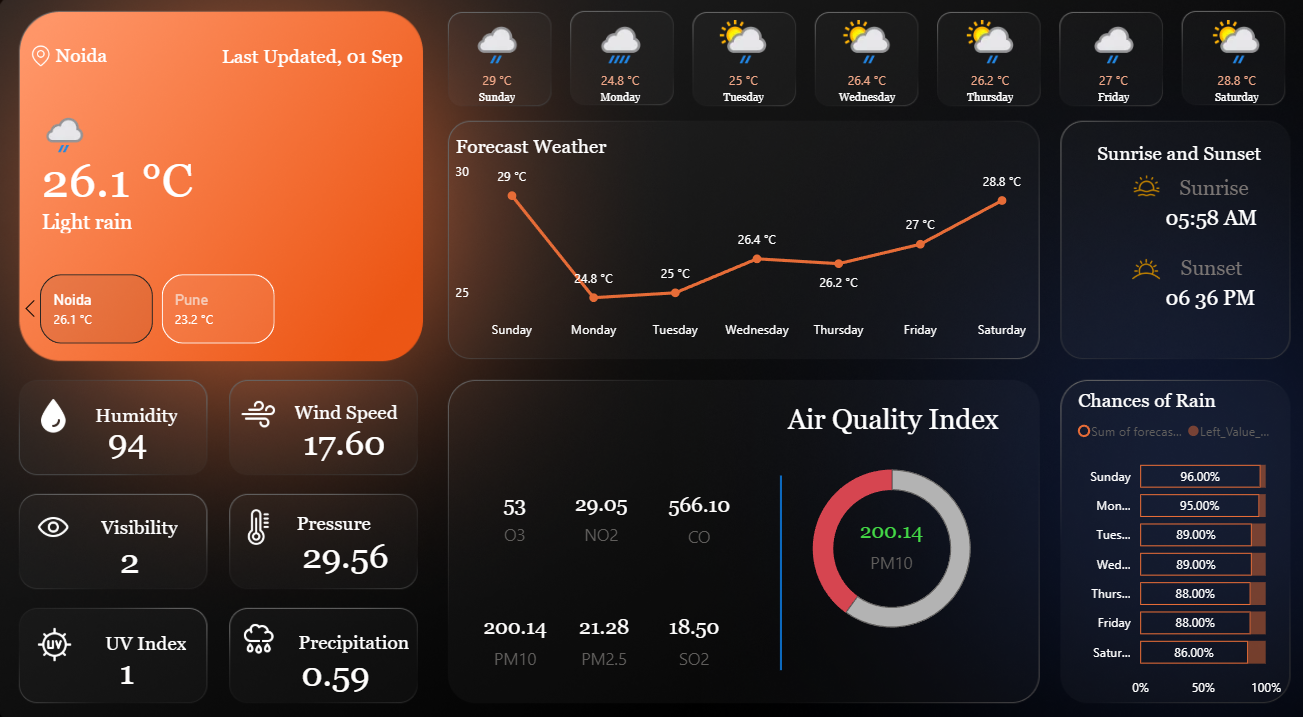

Layout of this report page (visuals, bound fields, positions):
{"tool":"powerbi","page":{"name":"Page 1","canvas":[1280,720],"ordinal":0},"visuals":[{"type":"advancedSlicerVisual","fields":{"Values":["Location.location.name"]},"box":[21,270.9,395.1,77.4],"z":0},{"type":"shape","box":[46.7,145.5,171.5,79.6],"z":1000},{"type":"shape","box":[46.6,196.2,324.2,58.2],"z":2000},{"type":"shape","box":[207.2,41.2,188,49.4],"z":3000},{"type":"shape","box":[60.4,43.9,102.9,42.5],"z":4000},{"type":"image","box":[22,50.8,49.4,30.2],"z":5000},{"type":"cardVisual","fields":{"Data":["Min(Current.current.condition.icon)"]},"box":[0,94.8,111.4,79.8],"z":6000},{"type":"image","box":[36.4,497.9,44.3,44.3],"z":7000},{"type":"image","box":[233.9,388.8,44.3,45.8],"z":8000},{"type":"image","box":[36.4,390.4,44.3,44.3],"z":9000},{"type":"image","box":[233.9,497.9,44.3,44.3],"z":10000},{"type":"image","box":[233.9,605.4,45,45],"z":11000},{"type":"image","box":[37.9,611.7,44.3,44.3],"z":12000},{"type":"shape","box":[77.5,387.3,101.2,50.6],"z":13000},{"type":"shape","box":[85.4,607,101.2,50.6],"z":14000},{"type":"shape","box":[289.3,605.4,112.2,50.6],"z":15000},{"type":"shape","box":[276.6,491.6,88.5,50.6],"z":16000},{"type":"shape","box":[93.3,494.7,85.4,50.6],"z":17000},{"type":"shape","box":[289.3,384.1,101.2,50.6],"z":18000},{"type":"card","fields":{"Values":["Sum(Current.current.humidity)"]},"box":[85.4,399.9,88.5,74.3],"z":19000},{"type":"card","fields":{"Values":["Sum(Current.current.wind_kph)"]},"box":[286,405.7,106.4,64.8],"z":20000},{"type":"card","fields":{"Values":["Sum(Current.current.vis_km)"]},"box":[96.4,520,71.1,64.8],"z":21000},{"type":"card","fields":{"Values":["Sum(Current.current.pressure_in)"]},"box":[289.3,509,101.2,75.9],"z":22000},{"type":"card","fields":{"Values":["Sum(Current.current.uv)"]},"box":[90.1,633.8,77.5,52.2],"z":23000},{"type":"card","fields":{"Values":["Sum(Current.current.precip_mm)"]},"box":[289.3,633.8,82.2,55.3],"z":24000},{"type":"advancedSlicerVisual","fields":{"Values":["Forecast_Day.Day_Name"]},"box":[429.9,17.4,828.3,124.9],"z":25000},{"type":"lineChart","title":"Forecast Weather","fields":{"Y":["Sum(Forecast_Day.forecast.forecastday.day.avgtemp_c)"],"Category":["Forecast_Day.Day_Name"]},"box":[441,142.3,569,205.5],"z":26000},{"type":"shape","box":[1052.7,134.4,183.4,50.6],"z":27000},{"type":"shape","box":[1131.7,196,102.7,52.2],"z":28000},{"type":"shape","box":[1146,241.8,90.1,56.9],"z":29000},{"type":"shape","box":[1131.7,276.6,104.3,44.3],"z":30000},{"type":"shape","box":[1144.4,173.9,75.9,37.9],"z":31000},{"type":"image","box":[1081.2,173.9,64.8,34.8],"z":32000},{"type":"image","box":[1084.3,248.2,56.9,45.8],"z":33000},{"type":"hundredPercentStackedBarChart","title":"Chances of Rain","fields":{"Category":["Forecast_Day.Day_Name"],"Y":["Sum(Forecast_Day.forecast.forecastday.day.daily_chance_of_rain)","_Measures.Left_Value_Rain"]},"box":[1042.6,387.4,206.2,306],"z":34000},{"type":"shape","box":[734.9,390.8,267.7,49.9],"z":35000},{"type":"card","fields":{"Values":["Sum(Current.current.air_quality.co)"]},"box":[628.5,465.6,106.4,89.8],"z":36000},{"type":"card","fields":{"Values":["Sum(Current.current.air_quality.o3)"]},"box":[457.3,463.9,93.1,89.8],"z":37000},{"type":"card","fields":{"Values":["Sum(Current.current.air_quality.so2)"]},"box":[628.5,583.6,96.4,89.8],"z":38000},{"type":"card","fields":{"Values":["Sum(Current.current.air_quality.pm2_5)"]},"box":[538.7,583.6,101.4,89.8],"z":39000},{"type":"card","fields":{"Values":["Sum(Forecast_Day.forecast.forecastday.day.air_quality.pm10)"]},"box":[460.6,583.6,86.5,89.8],"z":40000},{"type":"card","fields":{"Values":["Sum(Current.current.air_quality.no2)"]},"box":[547.1,467.2,81.5,84.8],"z":41000},{"type":"shape","box":[734.9,470.6,51.5,187.9],"z":42000},{"type":"card","fields":{"Values":["Sum(Forecast_Day.forecast.forecastday.day.air_quality.pm10)"]},"box":[824.2,491.3,86.5,89.5],"z":43000},{"type":"donutChart","fields":{"Y":["_Measures.Left_Value_PM10","Sum(Forecast_Day.forecast.forecastday.day.air_quality.pm10)"]},"box":[767.5,439.6,200.6,204.1],"z":43001}]}

Visuals, with their boxes in screenshot pixels (x1, y1, x2, y2), scaled from the page's 1280x720 canvas onto the 1303x717 screenshot:
advancedSlicerVisual - Location.location.name: BBox(21, 270, 424, 347)
shape: BBox(48, 145, 222, 224)
shape: BBox(47, 195, 377, 253)
shape: BBox(211, 41, 402, 90)
shape: BBox(61, 44, 166, 86)
image: BBox(22, 51, 73, 81)
cardVisual - Min(Current.current.condition.icon): BBox(0, 94, 113, 174)
image: BBox(37, 496, 82, 540)
image: BBox(238, 387, 283, 433)
image: BBox(37, 389, 82, 433)
image: BBox(238, 496, 283, 540)
image: BBox(238, 603, 284, 648)
image: BBox(39, 609, 84, 653)
shape: BBox(79, 386, 182, 436)
shape: BBox(87, 604, 190, 655)
shape: BBox(294, 603, 409, 653)
shape: BBox(282, 490, 372, 540)
shape: BBox(95, 493, 182, 543)
shape: BBox(294, 382, 398, 433)
card - Sum(Current.current.humidity): BBox(87, 398, 177, 472)
card - Sum(Current.current.wind_kph): BBox(291, 404, 399, 469)
card - Sum(Current.current.vis_km): BBox(98, 518, 171, 582)
card - Sum(Current.current.pressure_in): BBox(294, 507, 398, 582)
card - Sum(Current.current.uv): BBox(92, 631, 171, 683)
card - Sum(Current.current.precip_mm): BBox(294, 631, 378, 686)
advancedSlicerVisual - Forecast_Day.Day_Name: BBox(438, 17, 1281, 142)
"Forecast Weather" lineChart: BBox(449, 142, 1028, 346)
shape: BBox(1072, 134, 1258, 184)
shape: BBox(1152, 195, 1257, 247)
shape: BBox(1167, 241, 1258, 297)
shape: BBox(1152, 275, 1258, 320)
shape: BBox(1165, 173, 1242, 211)
image: BBox(1101, 173, 1167, 208)
image: BBox(1104, 247, 1162, 293)
"Chances of Rain" hundredPercentStackedBarChart: BBox(1061, 386, 1271, 691)
shape: BBox(748, 389, 1021, 439)
card - Sum(Current.current.air_quality.co): BBox(640, 464, 748, 553)
card - Sum(Current.current.air_quality.o3): BBox(466, 462, 560, 551)
card - Sum(Current.current.air_quality.so2): BBox(640, 581, 738, 671)
card - Sum(Current.current.air_quality.pm2_5): BBox(548, 581, 652, 671)
card - Sum(Forecast_Day.forecast.forecastday.day.air_quality.pm10): BBox(469, 581, 557, 671)
card - Sum(Current.current.air_quality.no2): BBox(557, 465, 640, 550)
shape: BBox(748, 469, 801, 656)
card - Sum(Forecast_Day.forecast.forecastday.day.air_quality.pm10): BBox(839, 489, 927, 578)
donutChart - _Measures.Left_Value_PM10 x Sum(Forecast_Day.forecast.forecastday.day.air_quality.pm10): BBox(781, 438, 985, 641)
